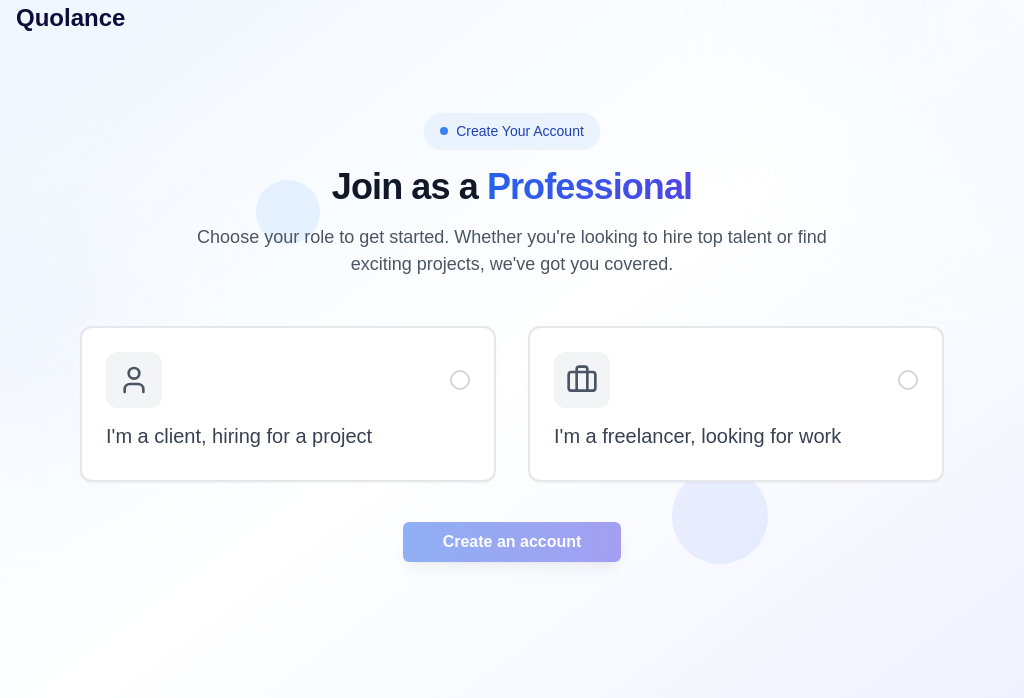
Test: Registration Flow › Error Registration Flow - No Input
This screenshot has width=1024, height=698.
Expected: the button "Create an account" is shown, x1=403 y1=522 x2=621 y2=562
# Select "Freelancer" role
Click the button with test id "freelancer-role".
click(582, 380)  # box x1=528 y1=326 x2=944 y2=482
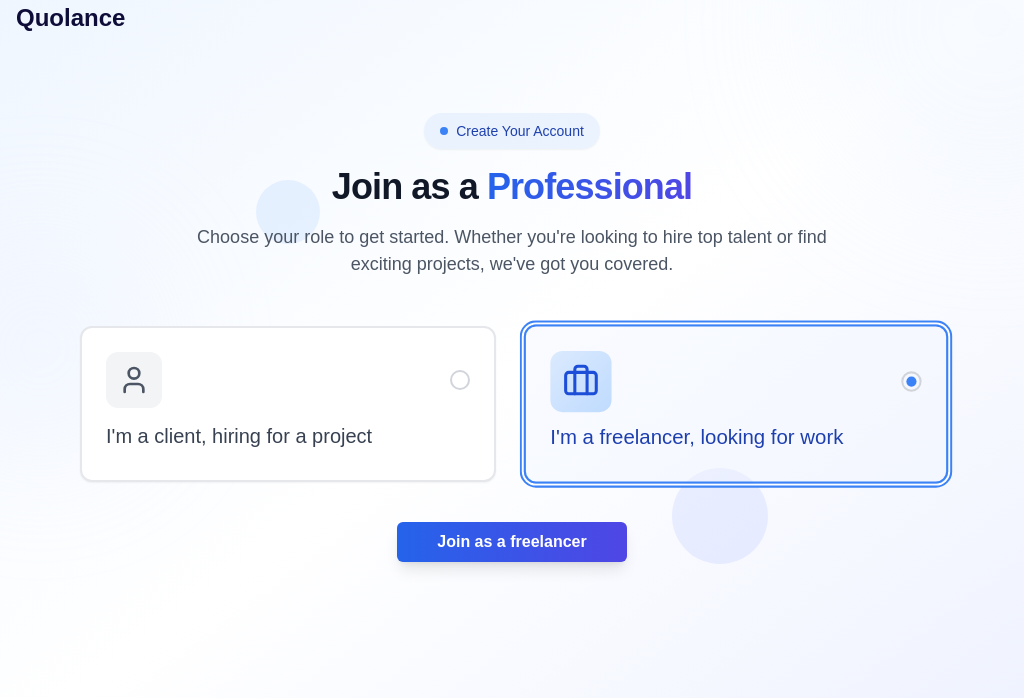
Now the button "Join as a freelancer" is shown
# Attempt to register without filling any fields
Click the button with test id "select-role".
click(512, 542)  # box x1=397 y1=522 x2=626 y2=562
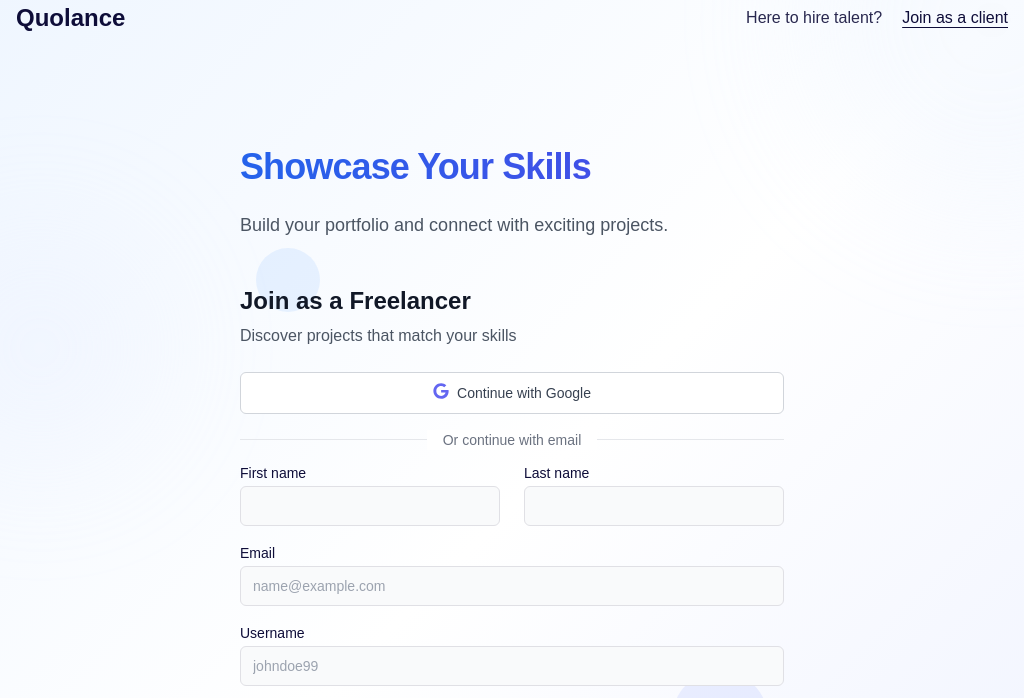
Scroll
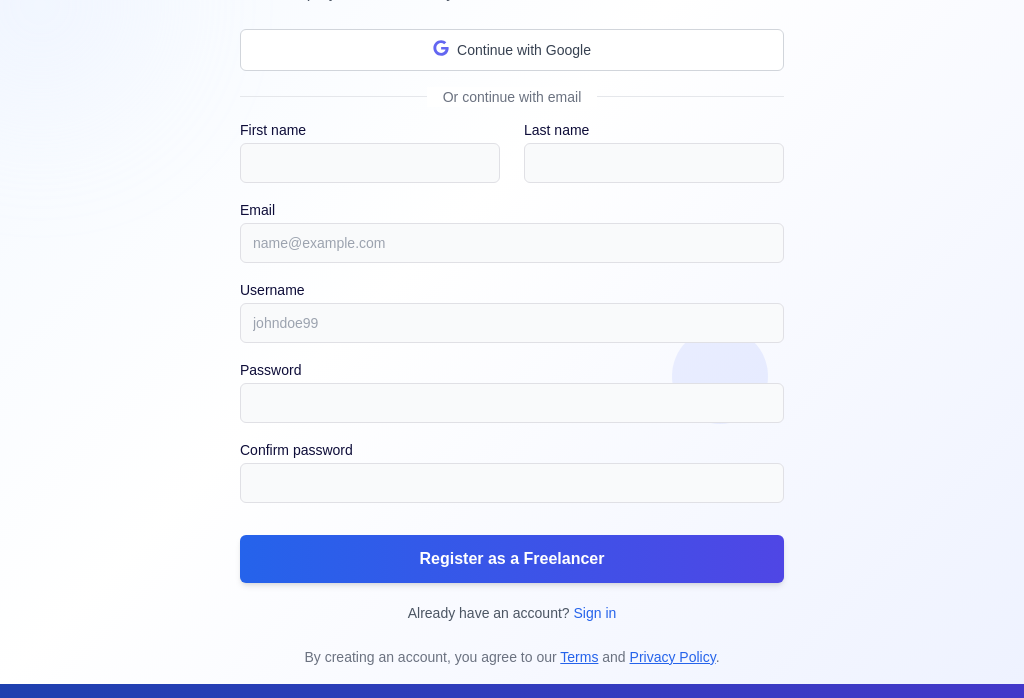
Click the button with test id "register-submit".
click(512, 559)  # box x1=240 y1=535 x2=784 y2=583
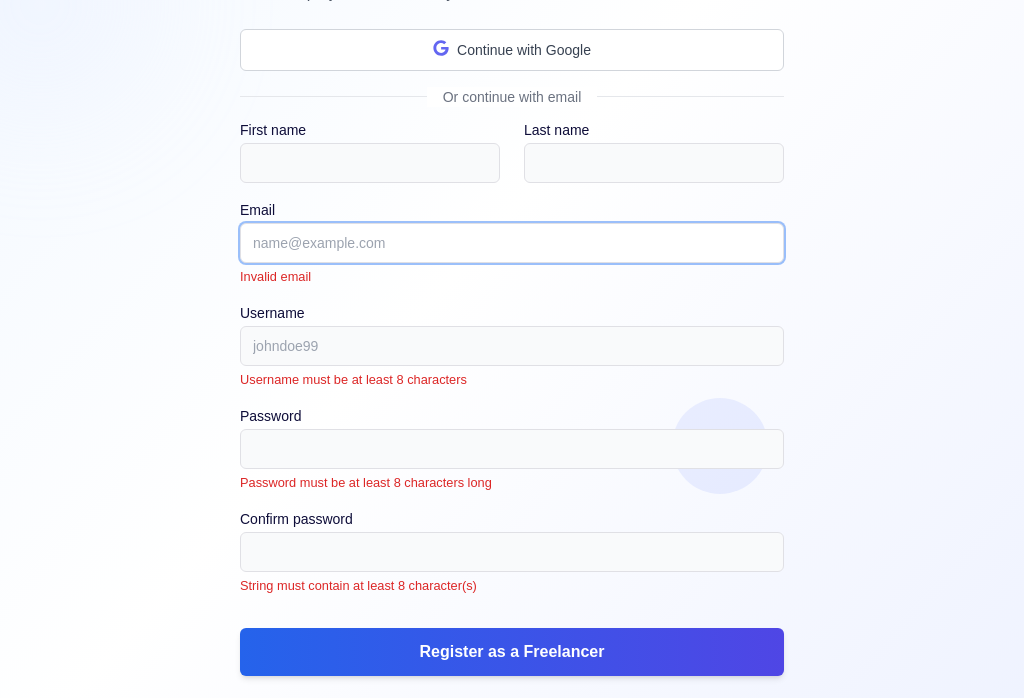
Now the text "Invalid email" is shown, box x1=240 y1=269 x2=311 y2=284
Now the text "Username must be at least 8 characters" is shown, box x1=240 y1=372 x2=467 y2=387
Now the text "Password must be at least 8 characters long" is shown, box x1=240 y1=475 x2=492 y2=490
